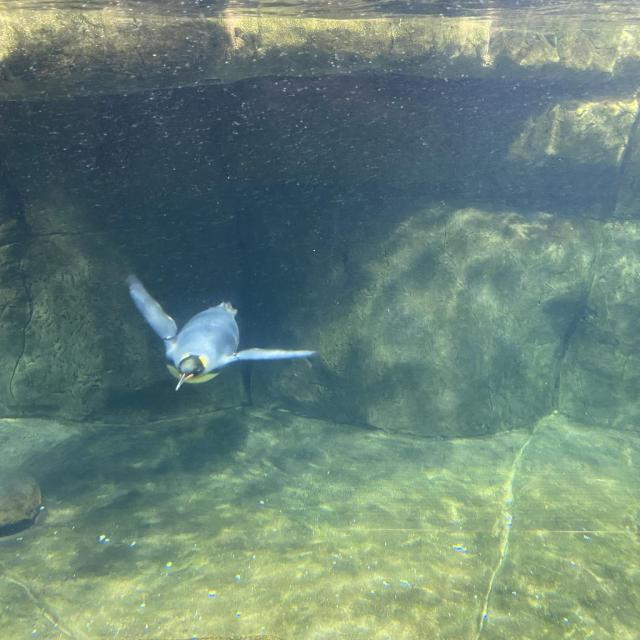penguin: (126, 272, 315, 392)
